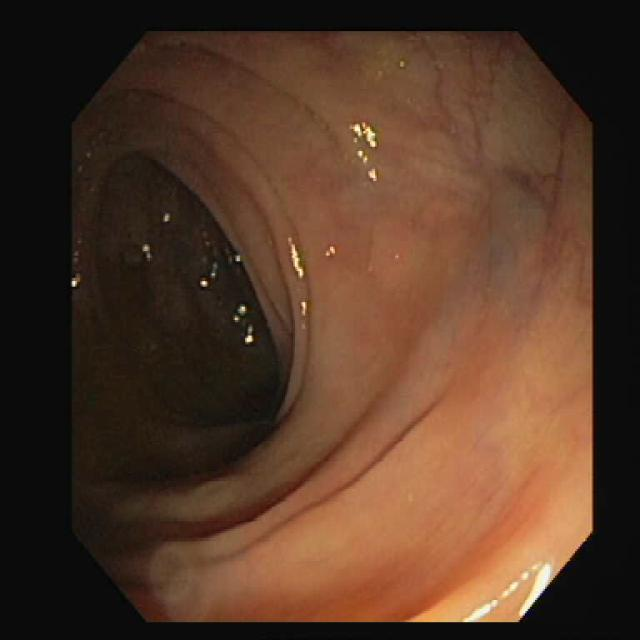tumor: (367, 204, 415, 280)
